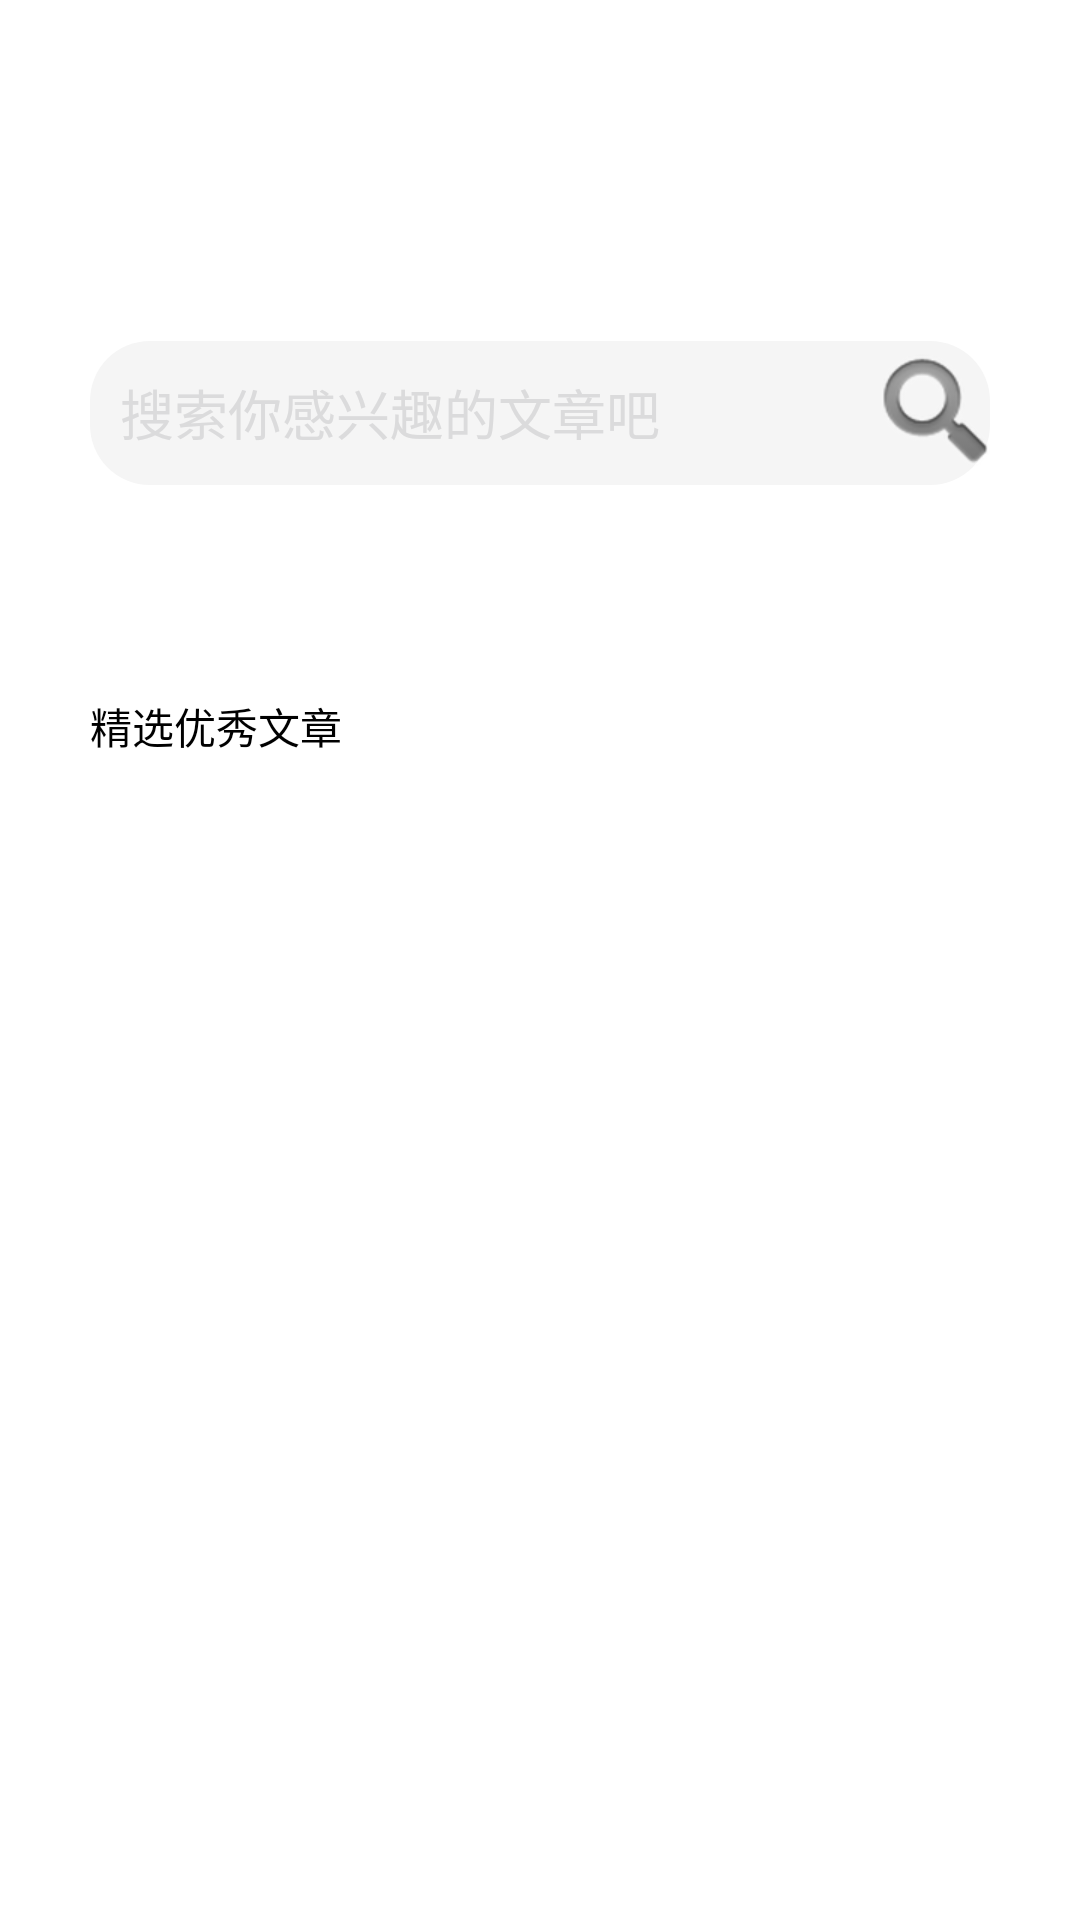

Screen size 1080x1920. Icon name, then its box in pixels as (x1, y1, x2, y2):
search category: (883, 358, 987, 462)
